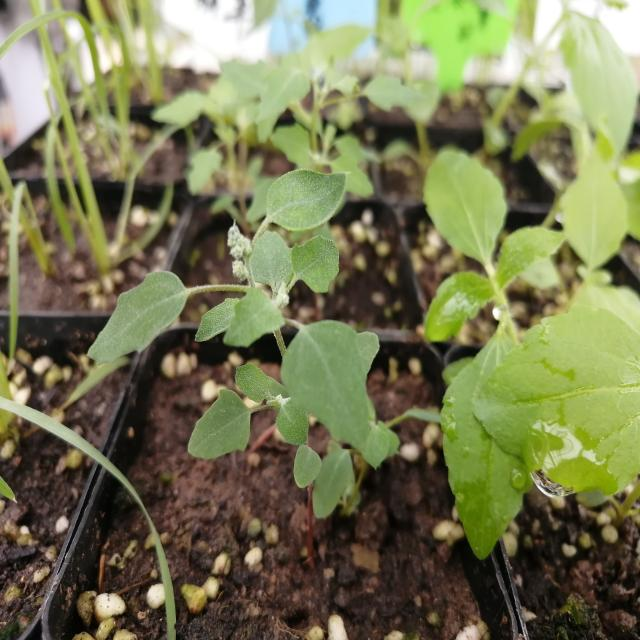goosefoots: (88, 162, 399, 508)
